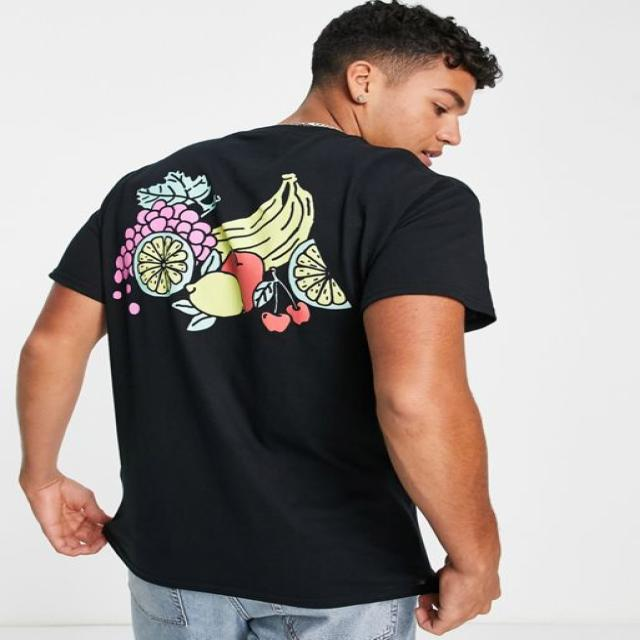tshirt: (49, 123, 495, 605)
